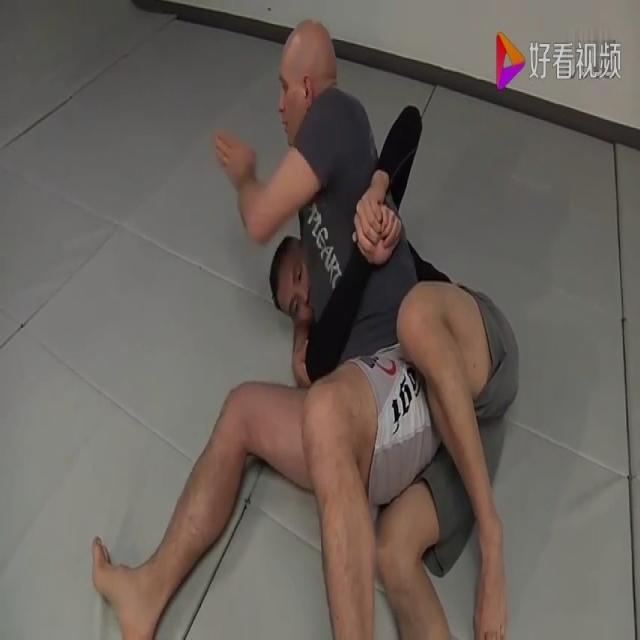fight: (83, 4, 520, 639)
